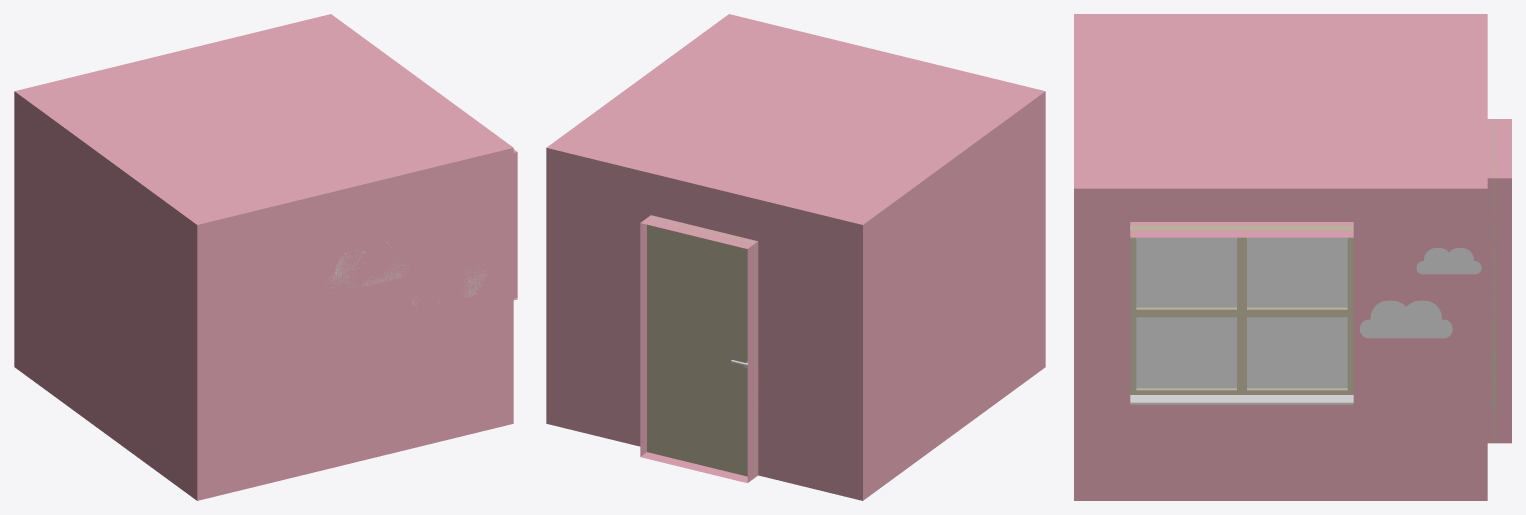
The model's file is комната .fbx.
3 renders of one model, left to right at view 1: azimuth 30°, elevation 25°; view 2: azimuth 150°, elevation 25°; view 3: azimuth 270°, elevation 25°, orthographic. The views are drawn at different scales.
Parts seen in each view (by area): view 1: Cube.014, Cube, Plane.010; view 2: Cube.014, Cube.017; view 3: Cube, Cube.014, Plane.008, Cube.016, Plane.010, Cube.015, Cube.017.
Part boxes in pixels (bbox=[...]): Cube.014: bbox=[14, 14, 513, 500]; Cube: bbox=[197, 148, 517, 500]; Plane.010: bbox=[326, 242, 493, 308]; Cube.014: bbox=[546, 14, 1045, 500]; Cube.017: bbox=[647, 216, 756, 477]; Cube: bbox=[1074, 188, 1487, 500]; Cube.014: bbox=[1074, 14, 1511, 443]; Plane.008: bbox=[1136, 237, 1347, 388]; Cube.016: bbox=[1130, 225, 1353, 394]; Plane.010: bbox=[1360, 248, 1481, 338]; Cube.015: bbox=[1130, 395, 1353, 404]; Cube.017: bbox=[1491, 119, 1496, 442].
Bounding box in the file's own units: 4.18 × 4.06 × 3.19.
